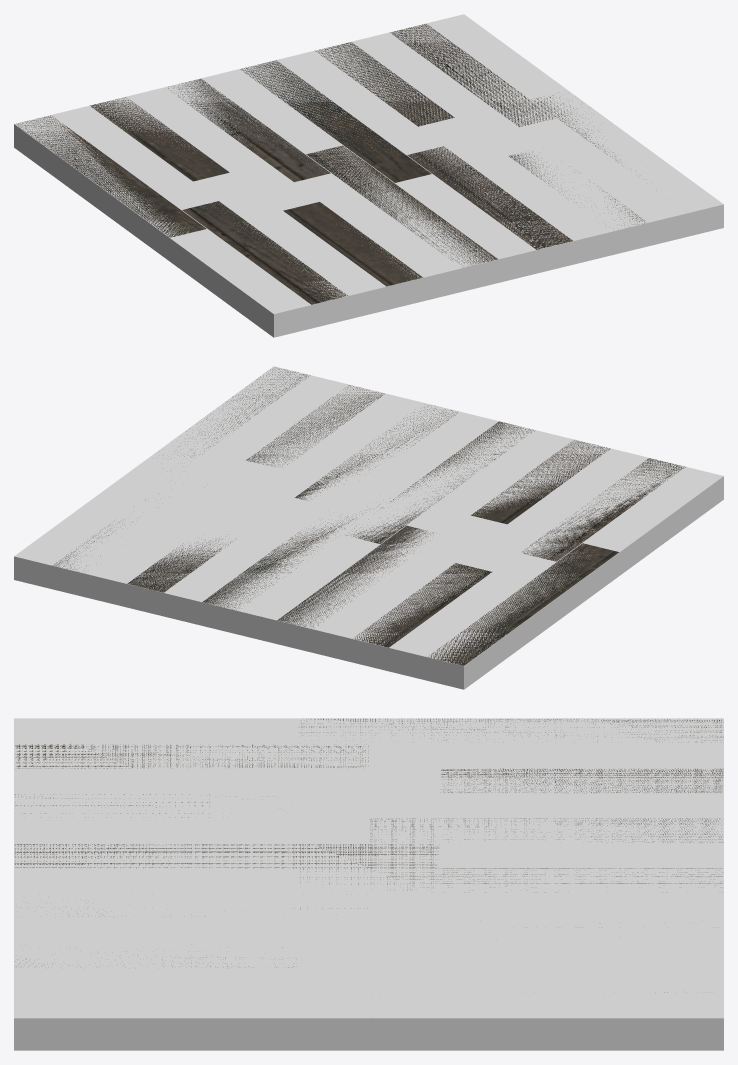
File: SM_Arch_FloorModule_01.glb
3 views of the same model, one above another, from view 1: azimuth 30°, elevation 25°; view 2: azimuth 150°, elevation 25°; view 3: azimuth 270°, elevation 25° (orthographic). The views are drawn at different scales.
Visible parts, largest first — view 1: COL_Arch_FloorModule_01, SM_Arch_FloorModule_01; view 2: COL_Arch_FloorModule_01, SM_Arch_FloorModule_01; view 3: COL_Arch_FloorModule_01, SM_Arch_FloorModule_01.
Part boxes in pixels (left/top/right/bottom): COL_Arch_FloorModule_01: left=14, top=14, right=723, bottom=337; SM_Arch_FloorModule_01: left=17, top=24, right=644, bottom=304; COL_Arch_FloorModule_01: left=14, top=366, right=723, bottom=689; SM_Arch_FloorModule_01: left=52, top=367, right=685, bottom=665; COL_Arch_FloorModule_01: left=14, top=718, right=723, bottom=1050; SM_Arch_FloorModule_01: left=14, top=718, right=723, bottom=992.
Bounding box in the file's own units: 2 × 0.1 × 2.
Materials: 1 (1 with a texture image).
